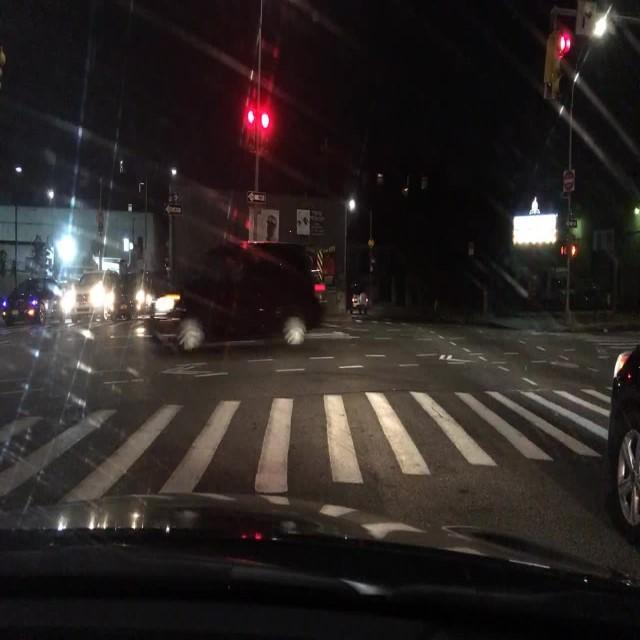normal: (95, 210, 406, 392)
